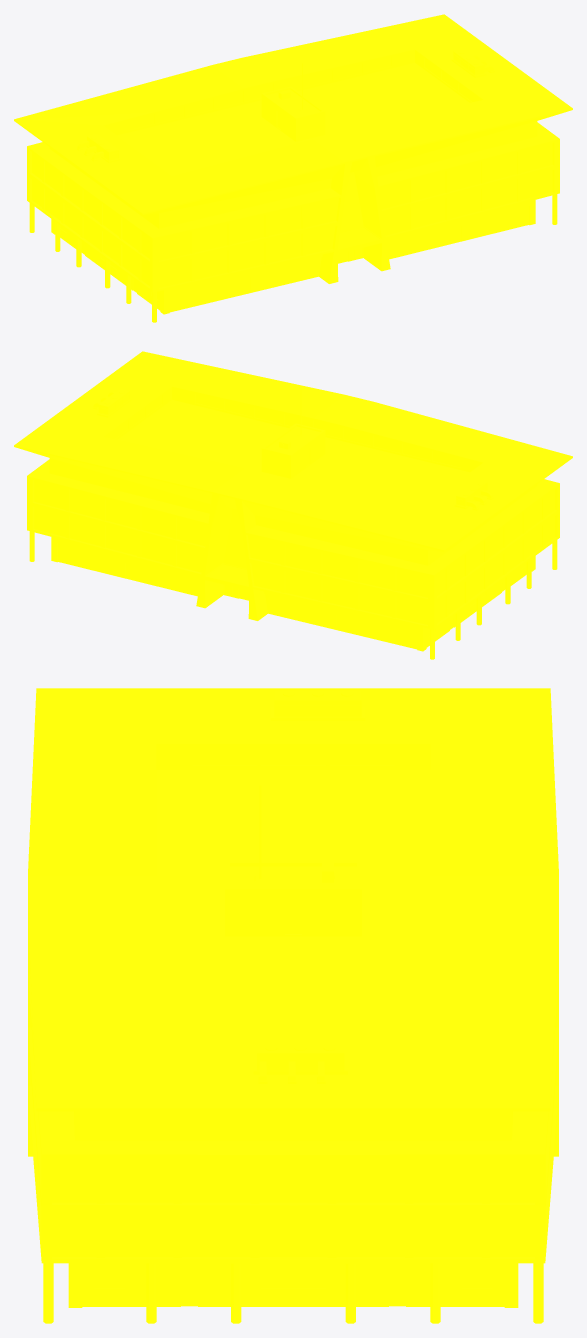
File: building-train-station.glb
3 renders of one model, top to bottom at view 1: azimuth 30°, elevation 25°; view 2: azimuth 150°, elevation 25°; view 3: azimuth 270°, elevation 25°, orthographic. The views are drawn at different scales.
Visible parts, largest first — view 1: building-train-station; view 2: building-train-station; view 3: building-train-station.
Part boxes in pixels (left/top/right/bottom): building-train-station: left=14, top=14, right=572, bottom=322; building-train-station: left=14, top=351, right=572, bottom=659; building-train-station: left=28, top=688, right=558, bottom=1323.
Size of the model in its own units: 58 by 22 by 31.
1 material, 1 textured.
